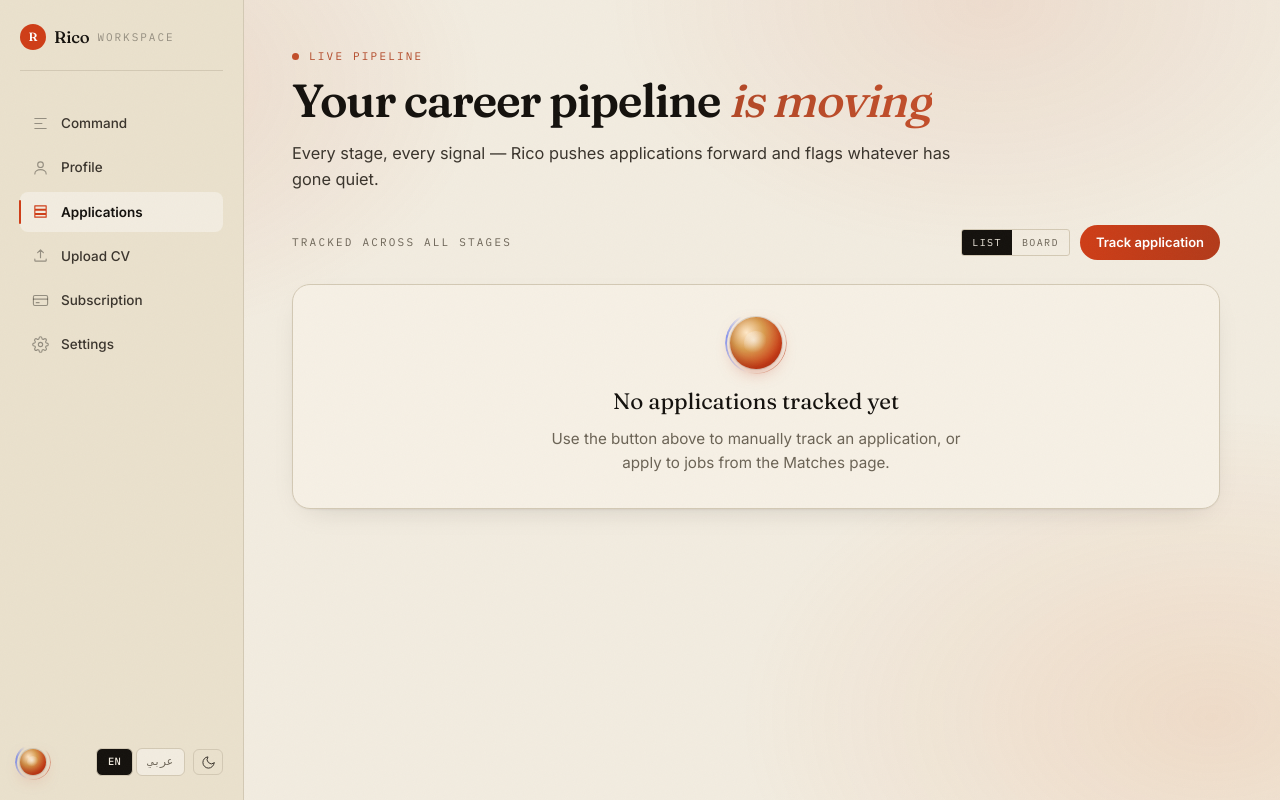
Test: Flow manual application tracking › opens modal when Track application button is clicked
The image size is (1280, 800).
Click the button "Track application".
click(1150, 242)  # box [1080,225,1220,260]
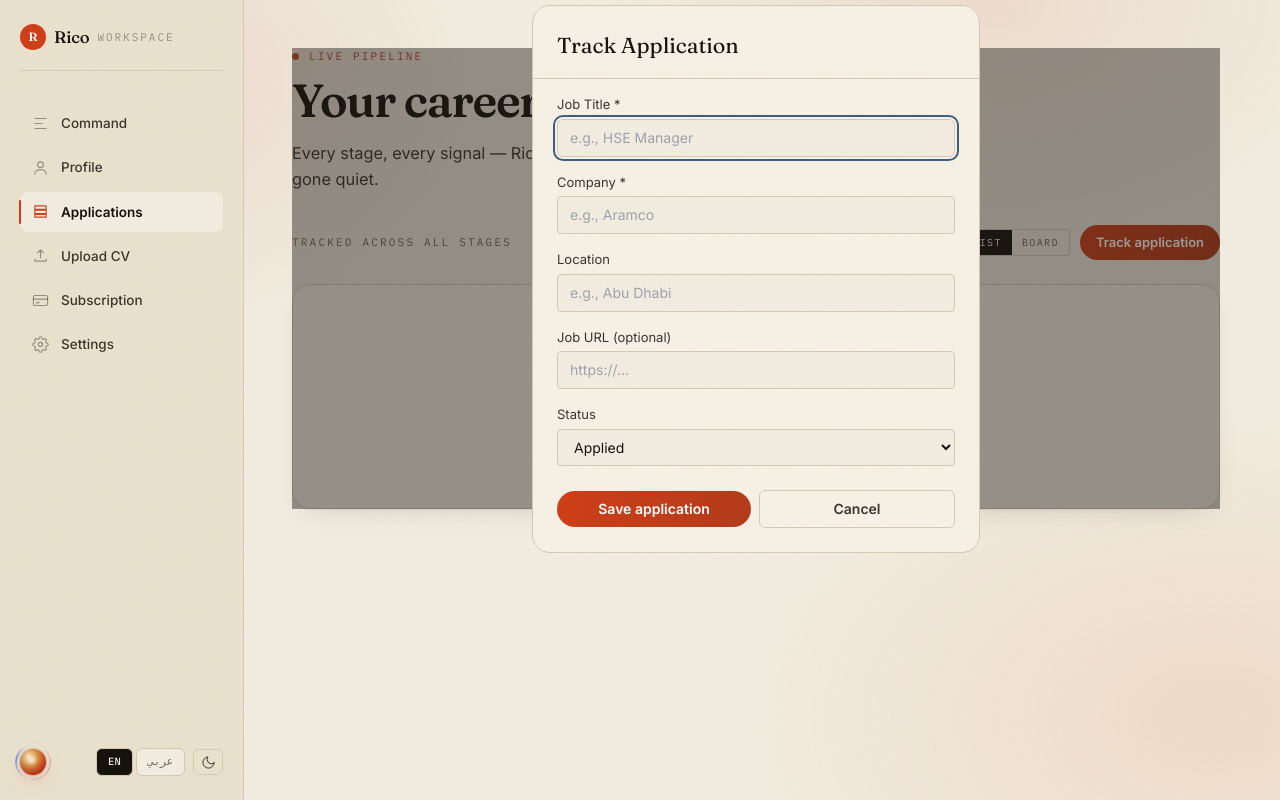
expect the dialog "Track Application" is shown: met, box [292,48,1220,509]
expect the form named "Manual application form" is shown: met, box [533,79,979,552]
